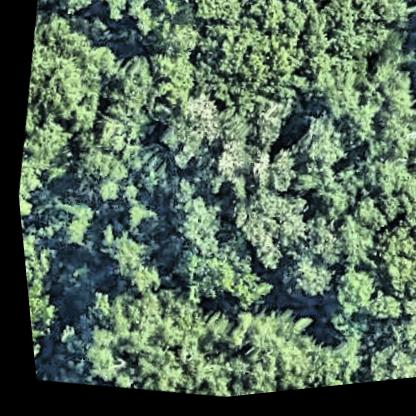tree-top: (180, 0, 415, 129), (61, 270, 229, 411), (4, 7, 125, 187), (204, 302, 345, 401), (211, 184, 317, 283), (265, 102, 372, 198), (164, 241, 265, 322), (357, 203, 416, 315), (85, 228, 165, 304), (336, 319, 416, 391), (156, 179, 225, 261), (264, 251, 335, 317), (315, 265, 379, 332), (41, 0, 136, 38), (21, 276, 57, 376), (36, 192, 91, 256)
